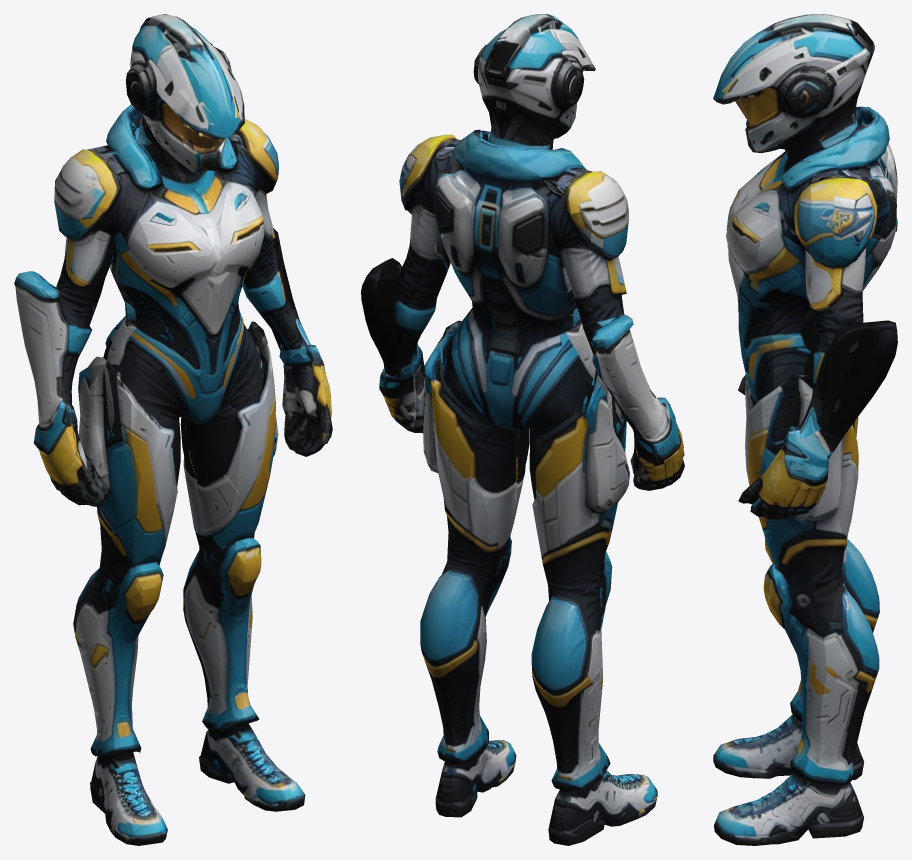
Rendered from 3d_trellis_ai-_scifi_armor_test_2.glb.
The picture shows the model from 3 angles, left to right: view 1: azimuth 30°, elevation 25°; view 2: azimuth 150°, elevation 25°; view 3: azimuth 270°, elevation 25°; orthographic projection. The views are drawn at different scales.
Parts seen in each view (by area): view 1: world_1; view 2: world_1; view 3: world_1.
Boxes of the visible parts, x1,y1,x2,y2 form: world_1: (14,14,332,845); world_1: (361,14,684,845); world_1: (713,14,897,845).
Bounding box in the file's own units: 0.3828 × 1 × 0.2135.
1 material, 1 textured.
